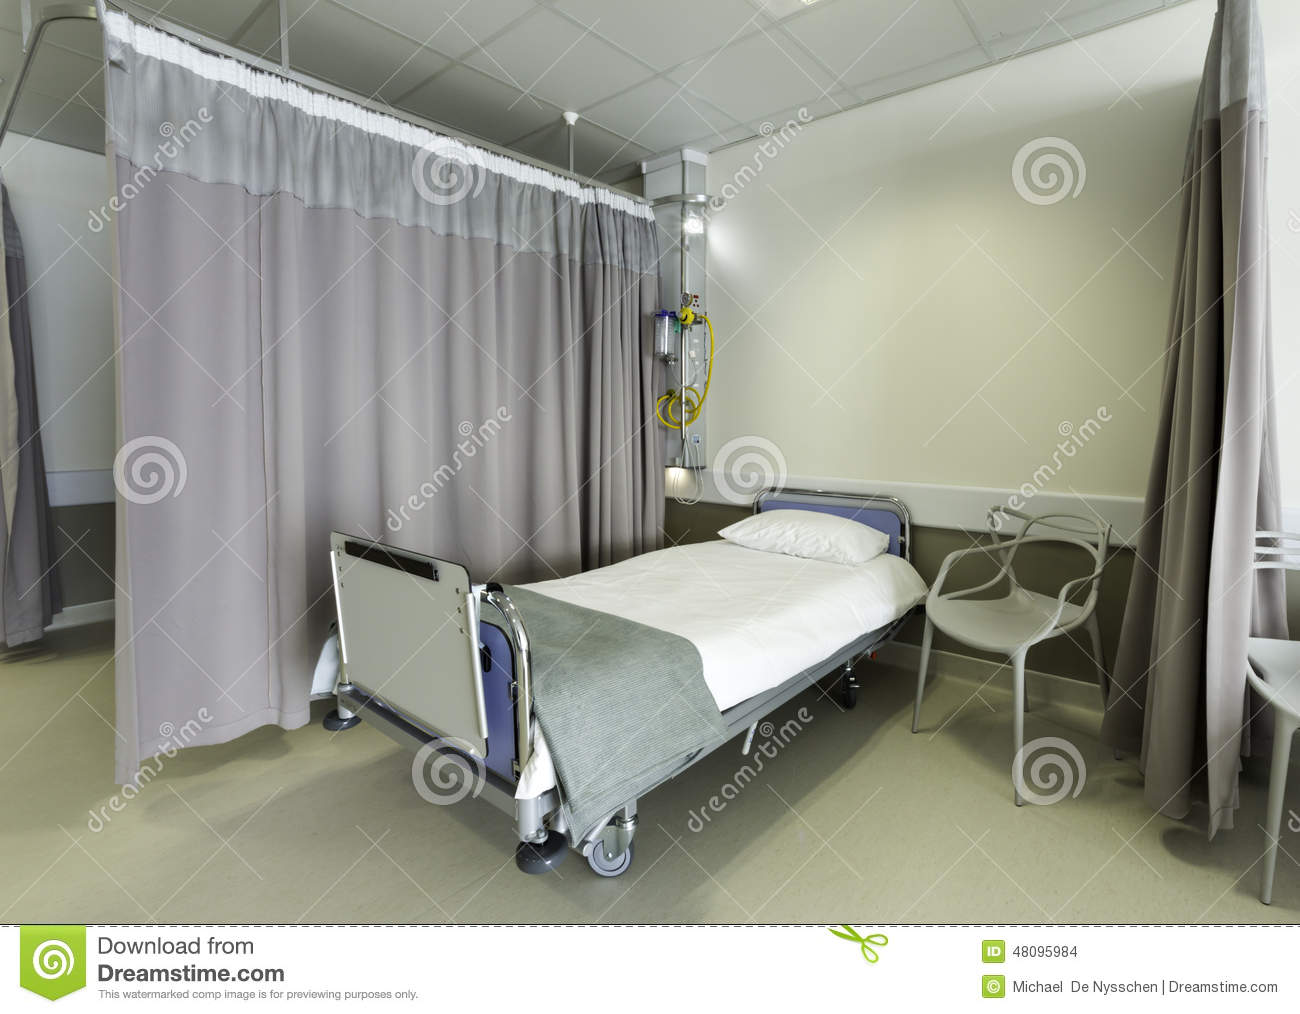hospital bed: (297, 455, 912, 817)
